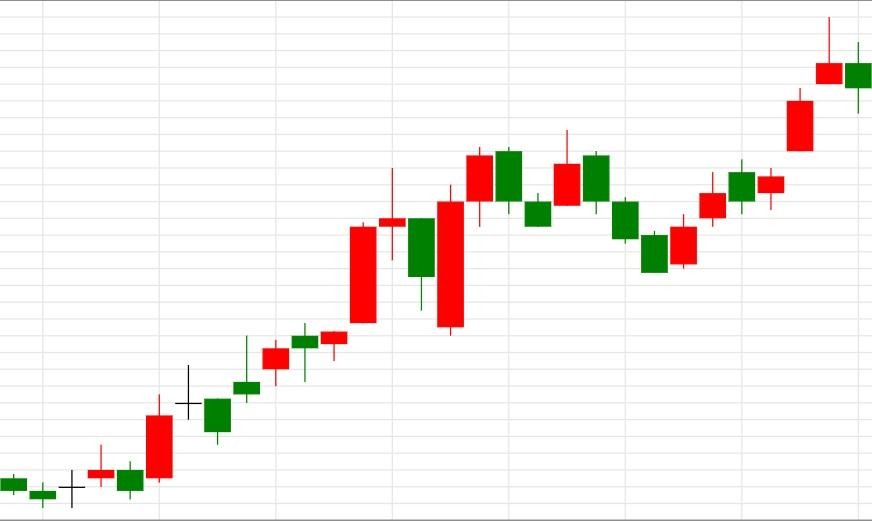shooting_star_fall: (641, 17, 844, 274)
three_black_crows_fall: (524, 129, 669, 274)
